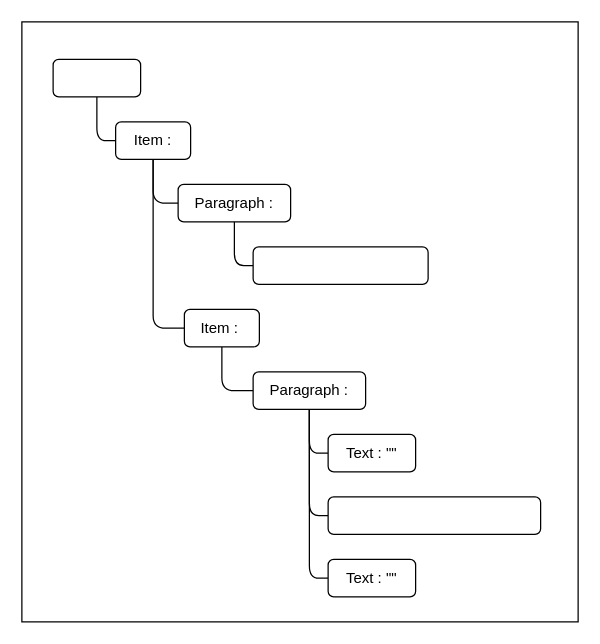
The diagram is 600 pixels wide and 644 high, and some of its shapes have lost their labels. The shapes that lost their labels are listed below. From the top down, each one's box as (x1, y1, x2, y2) in pixels, then its label:
(52, 58, 141, 97): List :
(252, 246, 428, 284): Text : "parameters"
(327, 496, 541, 534): Code : "message string"
